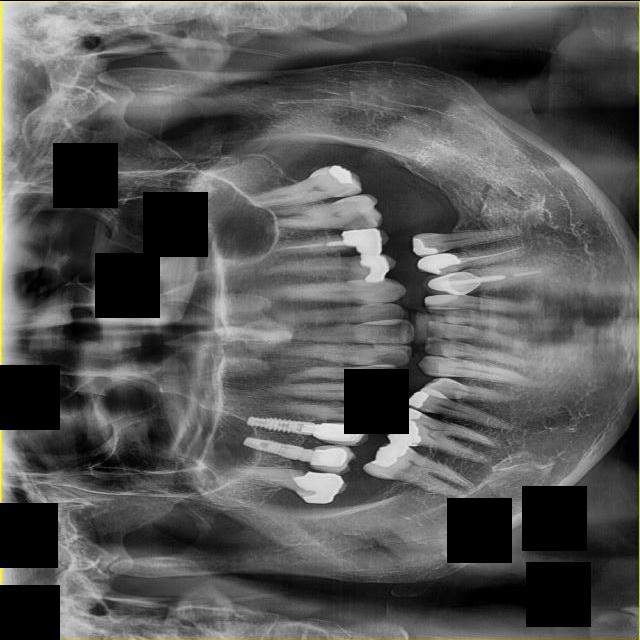55: (241, 431, 313, 462), (247, 412, 318, 436)
71: (432, 274, 506, 288), (324, 239, 344, 246)
74: (459, 252, 502, 263), (283, 241, 325, 251), (236, 469, 288, 477), (513, 269, 541, 276), (255, 478, 292, 482)
NucleOSS Implant: (366, 433, 410, 475), (293, 471, 343, 504), (415, 244, 461, 279), (386, 407, 421, 445), (341, 227, 384, 257), (360, 253, 391, 283), (407, 236, 440, 261), (327, 159, 355, 188), (405, 387, 428, 411)
Sterngold Implant: (337, 208, 378, 231), (338, 189, 352, 197), (341, 195, 354, 202)
Straumann Implant: (423, 292, 460, 304), (371, 342, 407, 352)
Zimmer Implant: (308, 441, 356, 476), (420, 268, 480, 295), (313, 420, 367, 447)
